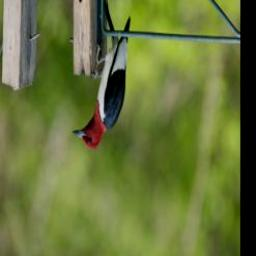Woodpecker: (72, 16, 131, 150)
